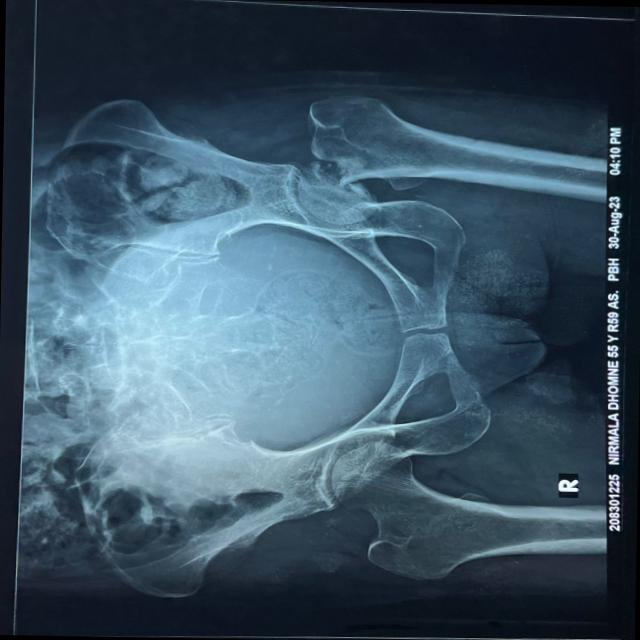left-neck: (306, 93, 474, 189), (297, 159, 380, 223)
normal-right: (331, 440, 569, 578)
